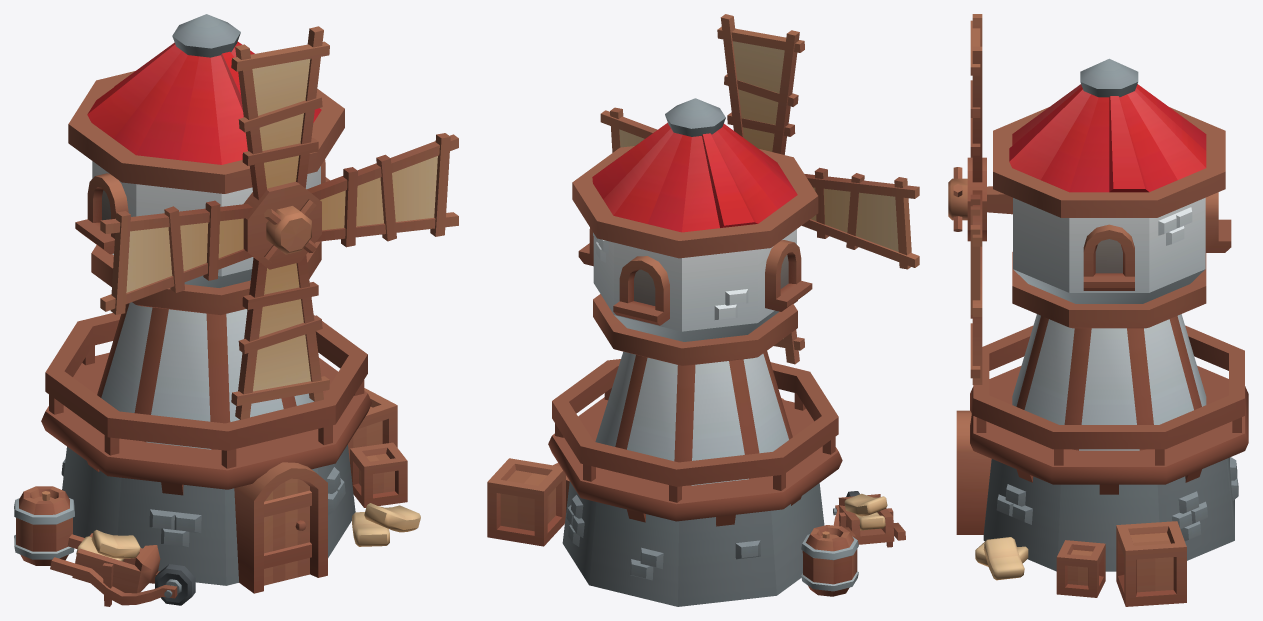
The model's file is kk_windmill_v1.glb.
The picture shows the model from 3 angles, left to right: view 1: azimuth 30°, elevation 25°; view 2: azimuth 150°, elevation 25°; view 3: azimuth 270°, elevation 25°; orthographic projection. The views are drawn at different scales.
Visible parts, largest first — view 1: building_windmill_red; view 2: building_windmill_red; view 3: building_windmill_red.
Boxes of the visible parts, box(x1,y1,x2,y2) form: building_windmill_red: box(14, 14, 458, 606); building_windmill_red: box(487, 14, 919, 606); building_windmill_red: box(948, 14, 1248, 606).
Size of the model in its own units: 1.13 by 1.46 by 0.8165.
1 material, 1 textured.
